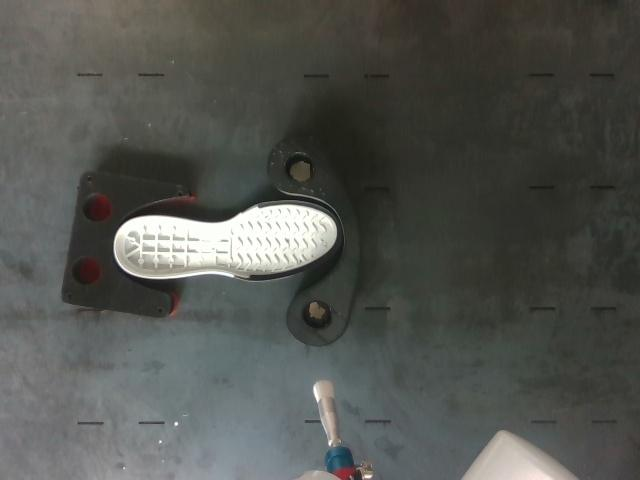shoes: (115, 202, 342, 280)
